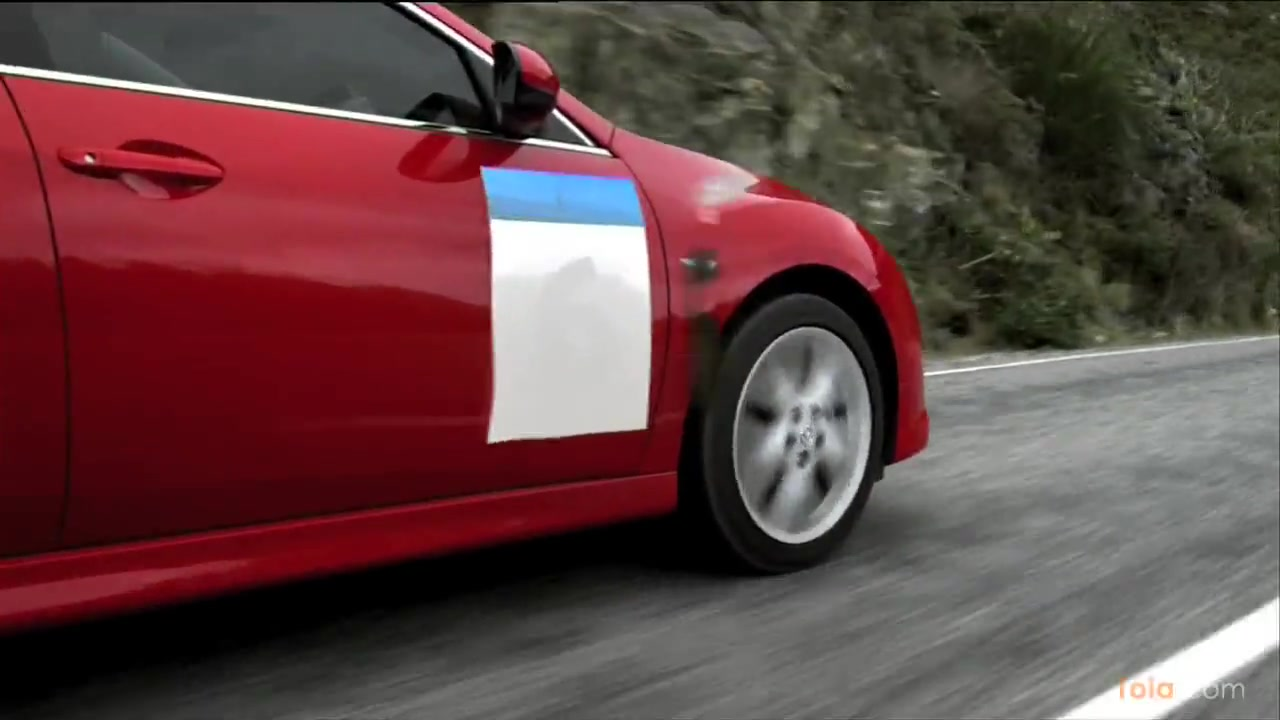car: (4, 1, 932, 638)
